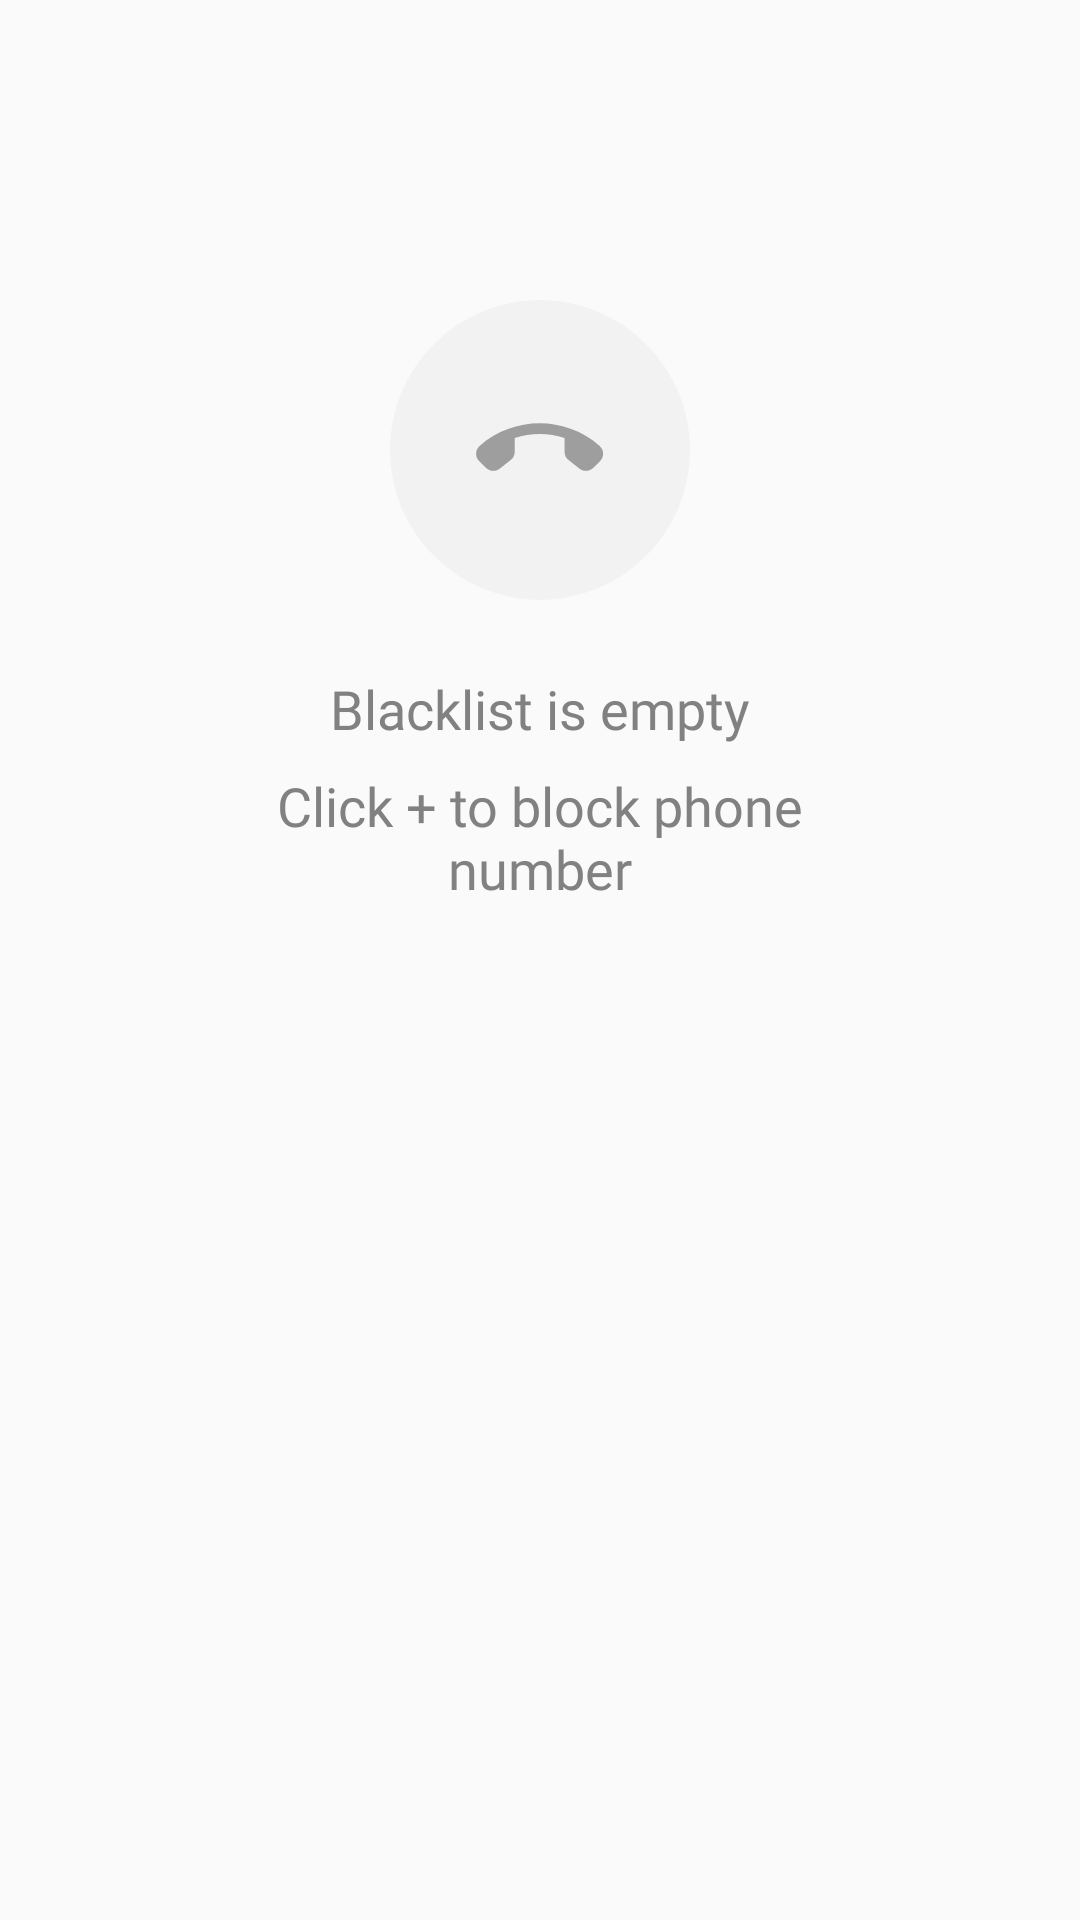

Point at icon controls on the screen. Image size 1080px x 1920px, points as (x,y).
empty call blocker: (539,447)
